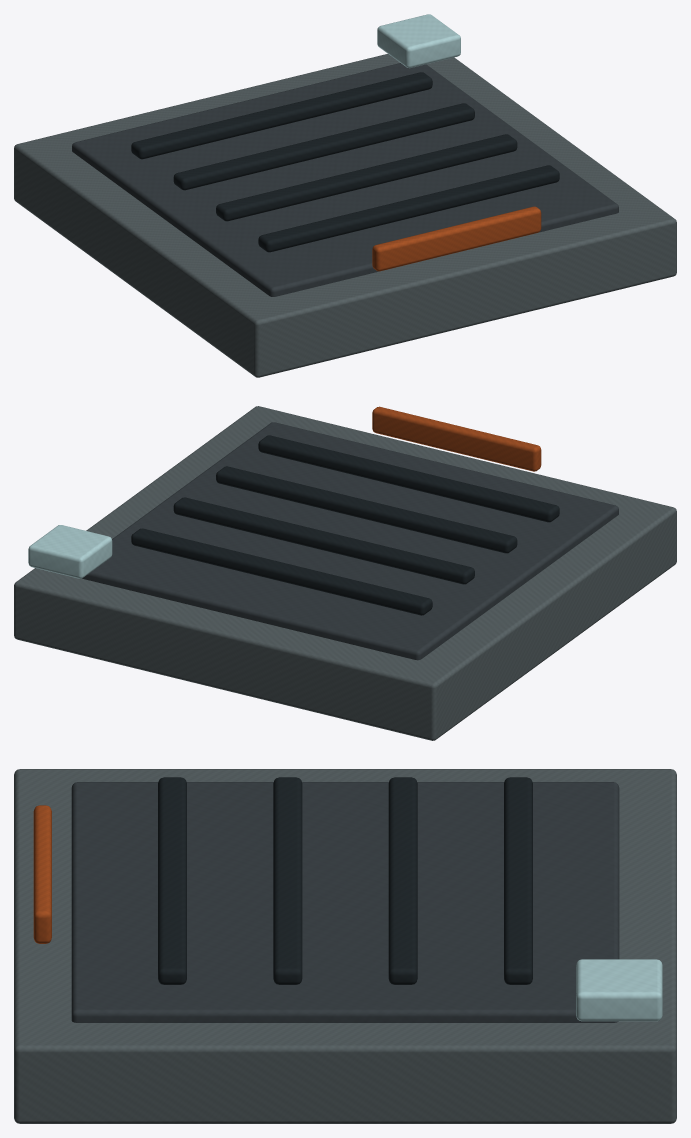
The model's file is ContainmentDrainUnit.fbx.
3 renders of one model, top to bottom at view 1: azimuth 30°, elevation 25°; view 2: azimuth 150°, elevation 25°; view 3: azimuth 270°, elevation 25°, orthographic. The views are drawn at different scales.
Visible parts, largest first — view 1: ContainmentDrainUnit_Mesh; view 2: ContainmentDrainUnit_Mesh; view 3: ContainmentDrainUnit_Mesh.
Boxes of the visible parts, x1,y1,x2,y2 form: ContainmentDrainUnit_Mesh: (14, 14, 676, 377); ContainmentDrainUnit_Mesh: (14, 406, 676, 740); ContainmentDrainUnit_Mesh: (14, 769, 676, 1123).
Bounding box in the file's own units: 92 × 19.5 × 92.
5 materials, 5 textured.
